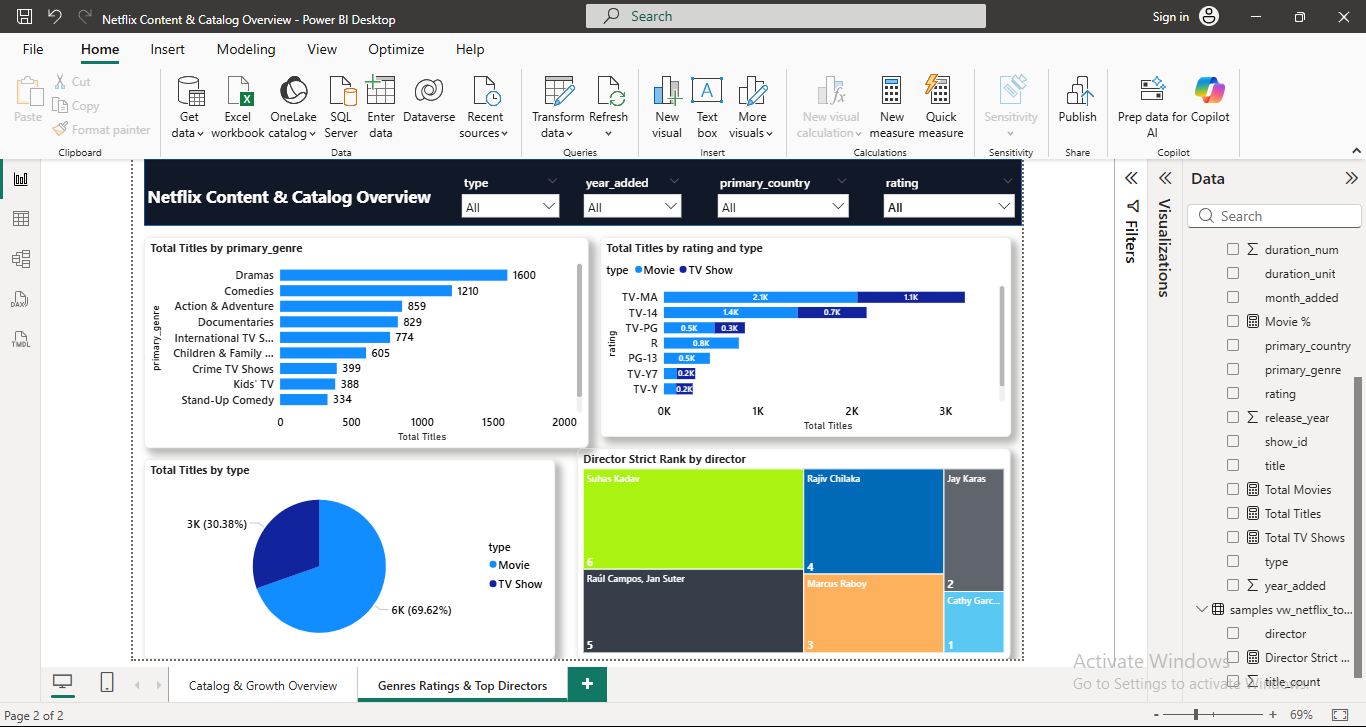

Layout of this report page (visuals, bound fields, positions):
{"tool":"powerbi","page":{"name":"Genres Ratings & Top Directors","canvas":[1280,720],"ordinal":1},"visuals":[{"type":"shape","box":[16,0,1264,96],"z":0},{"type":"textbox","box":[16,32,1264,64],"z":1000},{"type":"slicer","fields":{"Values":["samples vw_netflix_master.type"]},"box":[464,16,160,80],"z":2000},{"type":"slicer","fields":{"Values":["samples vw_netflix_master.year_added"]},"box":[640,16,160,80],"z":3000},{"type":"slicer","fields":{"Values":["samples vw_netflix_master.primary_country"]},"box":[832,16,208,80],"z":4000},{"type":"slicer","fields":{"Values":["samples vw_netflix_master.rating"]},"box":[1072,16,208,80],"z":5000},{"type":"clusteredBarChart","fields":{"Category":["samples vw_netflix_master.primary_genre"],"Y":["samples vw_netflix_master.Total Titles"]},"box":[16,112,640,304],"z":6000},{"type":"barChart","fields":{"Category":["samples vw_netflix_master.rating"],"Y":["samples vw_netflix_master.Total Titles"],"Series":["samples vw_netflix_master.type"]},"box":[672,112,592,288],"z":6001},{"type":"pieChart","fields":{"Y":["samples vw_netflix_master.Total Titles"],"Category":["samples vw_netflix_master.type"]},"box":[16,432,592,288],"z":6002},{"type":"treemap","fields":{"Group":["samples vw_netflix_top_directors.director"],"Values":["samples vw_netflix_top_directors.Director Strict Rank"]},"box":[640,416,624,304],"z":6003}]}

Visuals, with their boxes on the page's 1280x720 design canvas (x1, y1, x2, y2). These are canvas units, not pixel positions in the 1366x727 screenshot, which may show the page scaled, cropped or inside an application window:
shape: detection(16, 0, 1280, 96)
textbox: detection(16, 32, 1280, 96)
slicer - samples vw_netflix_master.type: detection(464, 16, 624, 96)
slicer - samples vw_netflix_master.year_added: detection(640, 16, 800, 96)
slicer - samples vw_netflix_master.primary_country: detection(832, 16, 1040, 96)
slicer - samples vw_netflix_master.rating: detection(1072, 16, 1280, 96)
clusteredBarChart - samples vw_netflix_master.primary_genre x samples vw_netflix_master.Total Titles: detection(16, 112, 656, 416)
barChart - samples vw_netflix_master.rating x samples vw_netflix_master.Total Titles: detection(672, 112, 1264, 400)
pieChart - samples vw_netflix_master.Total Titles x samples vw_netflix_master.type: detection(16, 432, 608, 720)
treemap - samples vw_netflix_top_directors.director x samples vw_netflix_top_directors.Director Strict Rank: detection(640, 416, 1264, 720)
